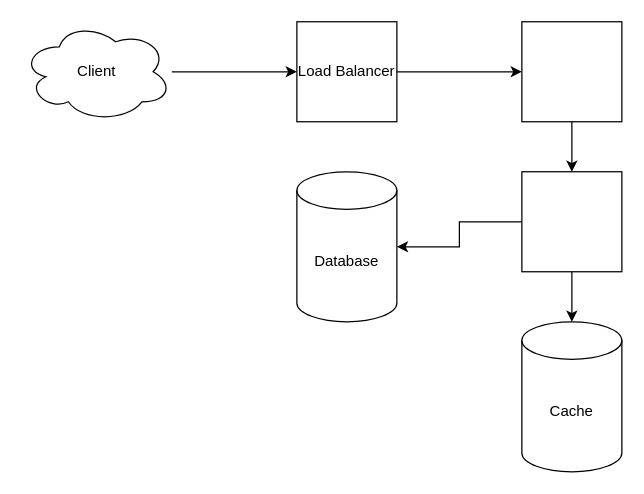
The diagram is 644 pixels wide and 494 high, and some of its shapes have lost their labels. The centre of each missing label's shape, as x and y in pixels:
"Application Servers" goes at (x=571, y=221).
"Web Servers" goes at (x=571, y=71).
